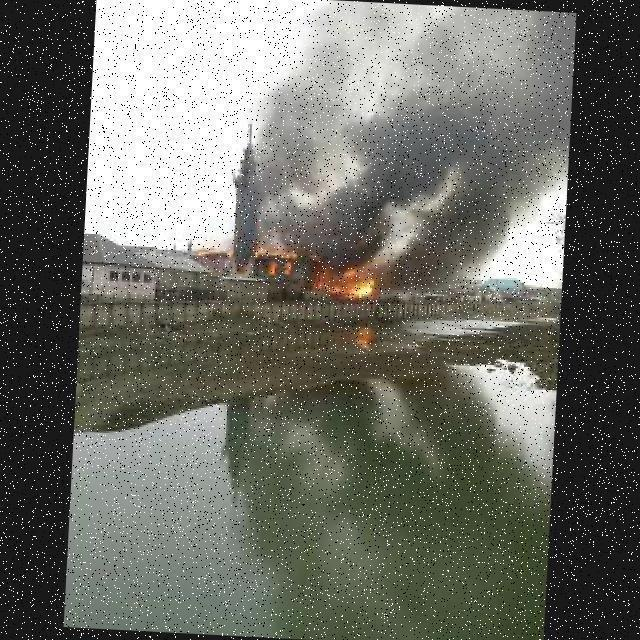Fire: (191, 221, 309, 269), (321, 260, 392, 316)
Smoke: (398, 109, 566, 295), (296, 89, 456, 271), (248, 9, 378, 213)
